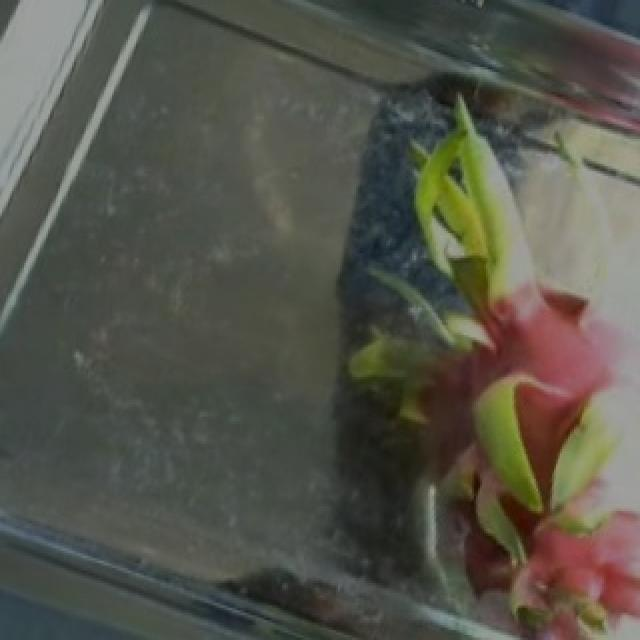fruit: (318, 211, 640, 635)
